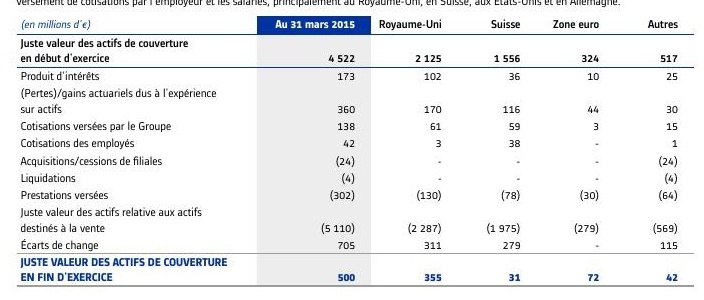table: (0, 0, 704, 300)
